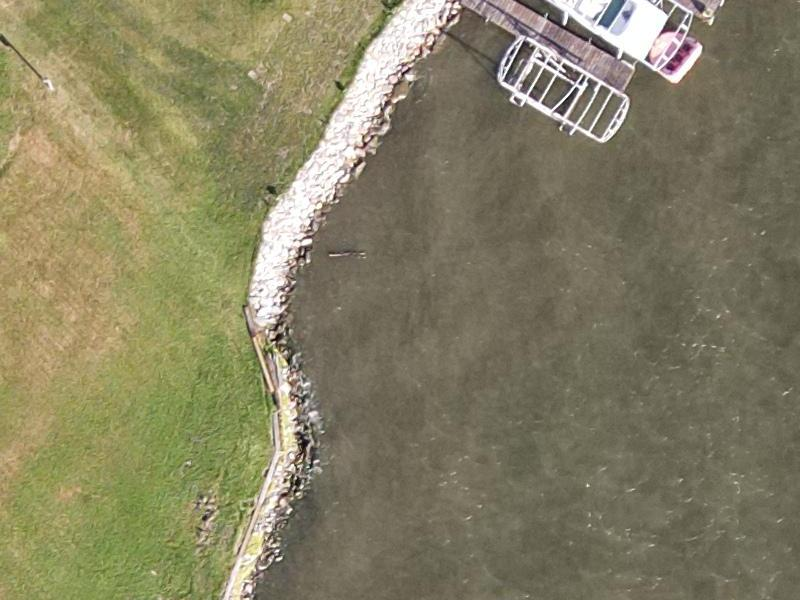boat: (448, 1, 636, 95), (487, 1, 793, 24)
lift: (498, 35, 632, 143), (515, 1, 694, 70)
